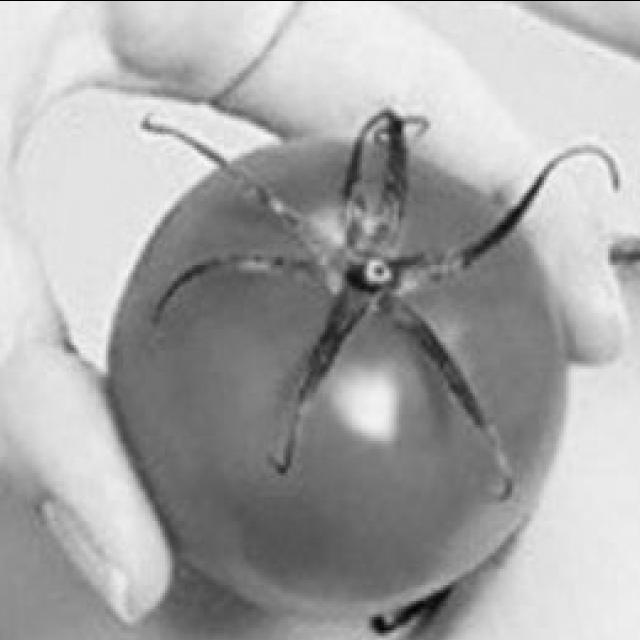Healthy: (109, 139, 566, 623)
